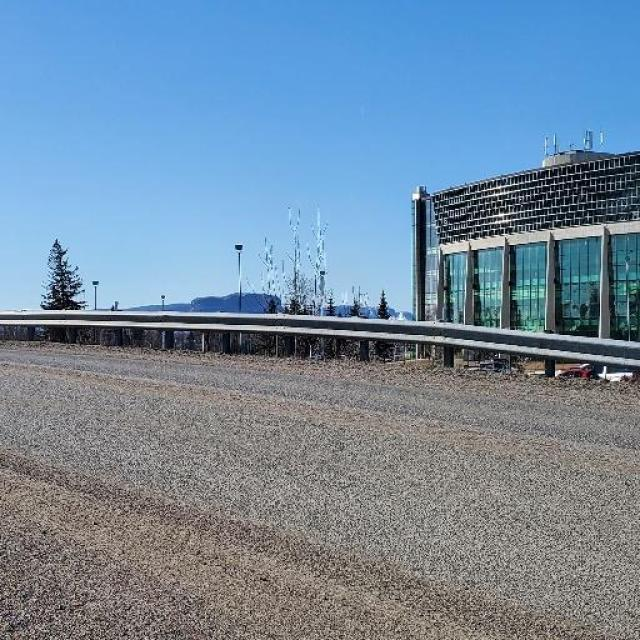Guard rail: (0, 309, 640, 379)
